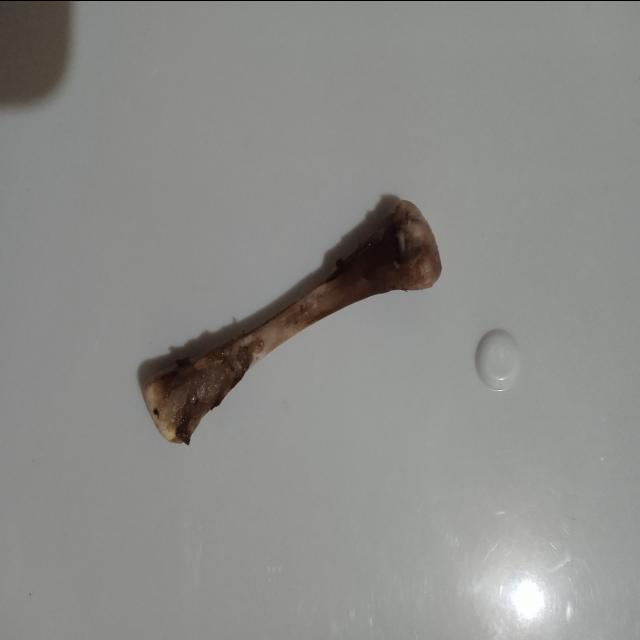bone: (136, 193, 446, 454)
